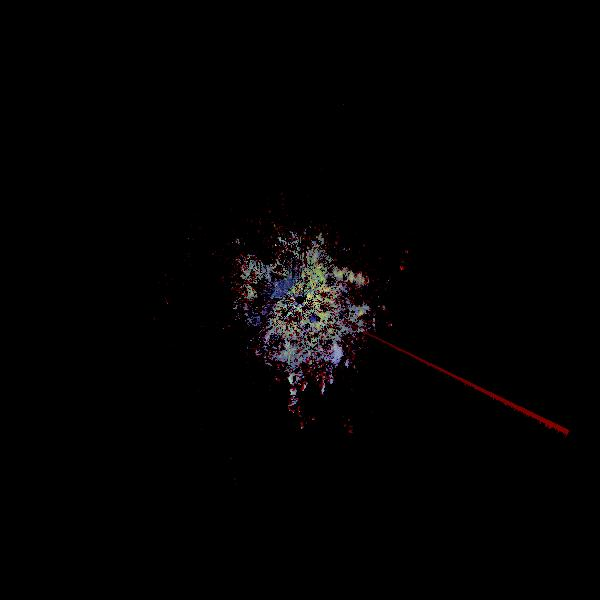roost: (239, 321, 371, 453)
